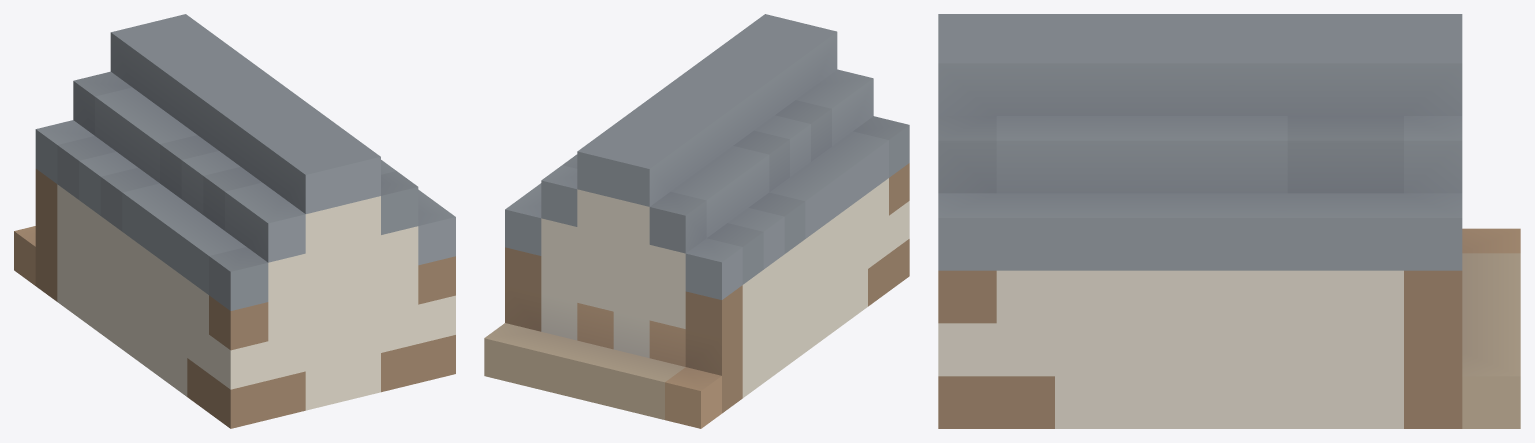
The model's file is lace_maker.lite.glb.
The picture shows the model from 3 angles, left to right: view 1: azimuth 30°, elevation 25°; view 2: azimuth 150°, elevation 25°; view 3: azimuth 270°, elevation 25°; orthographic projection. The views are drawn at different scales.
Visible parts, largest first — view 1: lace_maker; view 2: lace_maker; view 3: lace_maker.
Part boxes in pixels (x1,y1,x2,y2): lace_maker: (14, 14, 455, 428); lace_maker: (484, 14, 909, 428); lace_maker: (938, 14, 1520, 428).
Size of the model in its own units: 3 by 3 by 5.
